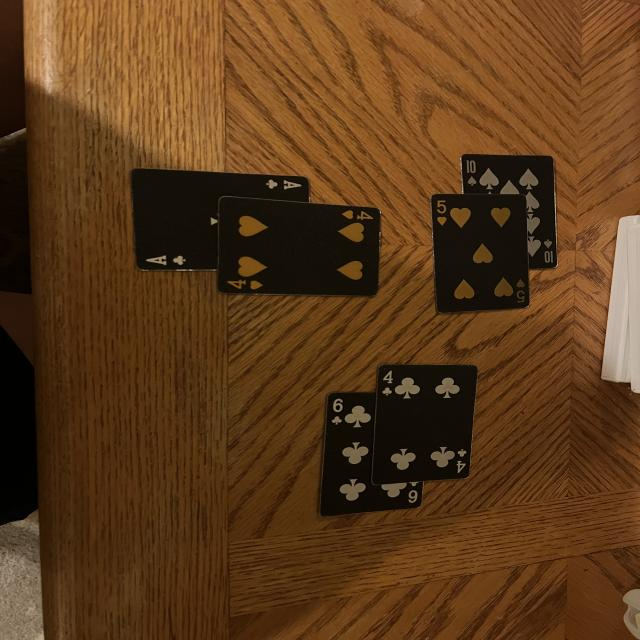10S: (466, 158, 482, 187), (542, 239, 554, 265)
4C: (382, 368, 395, 398), (456, 447, 469, 475)
4H: (221, 272, 268, 290), (340, 206, 385, 222)
5H: (434, 196, 450, 229), (514, 277, 525, 307)
6C: (331, 396, 344, 427), (408, 481, 420, 506)
AC: (141, 254, 195, 268), (265, 176, 304, 194)
